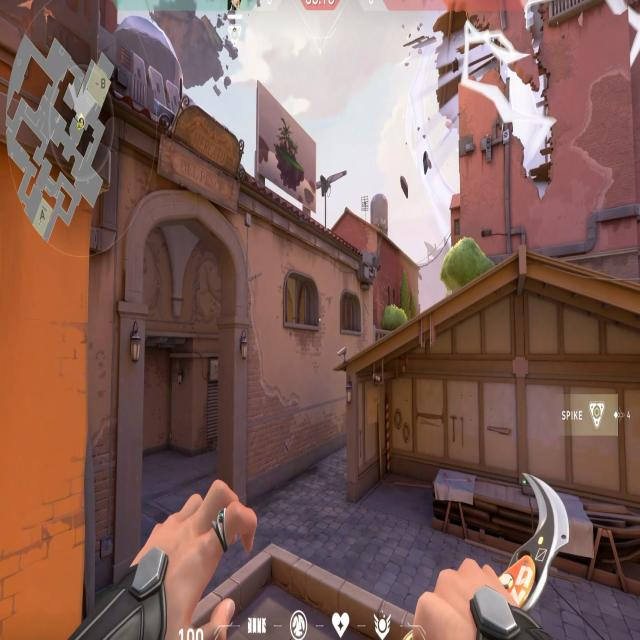B_Garage_Left: (340, 356, 487, 524)
Throwables: (275, 260, 327, 340), (339, 289, 365, 338)
